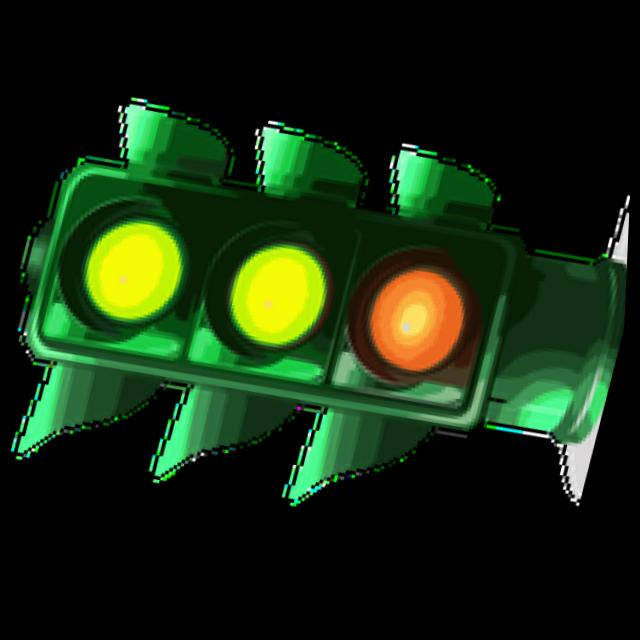green_light: (332, 208, 534, 426)
yellow_light: (157, 151, 356, 400), (43, 178, 221, 382)
